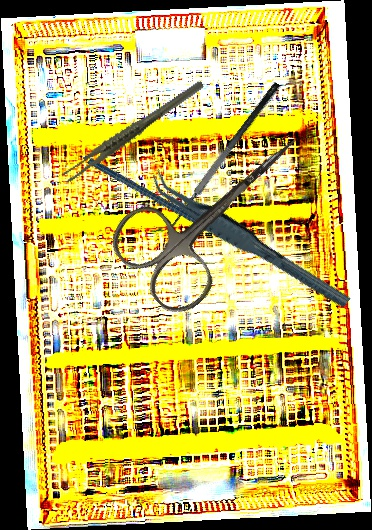Chopper: (87, 116, 245, 282)
Iris Scissors: (100, 98, 335, 324)
Spatula Surgical: (157, 81, 294, 245)
Tissue Forceps: (145, 151, 352, 331), (48, 79, 218, 185)
